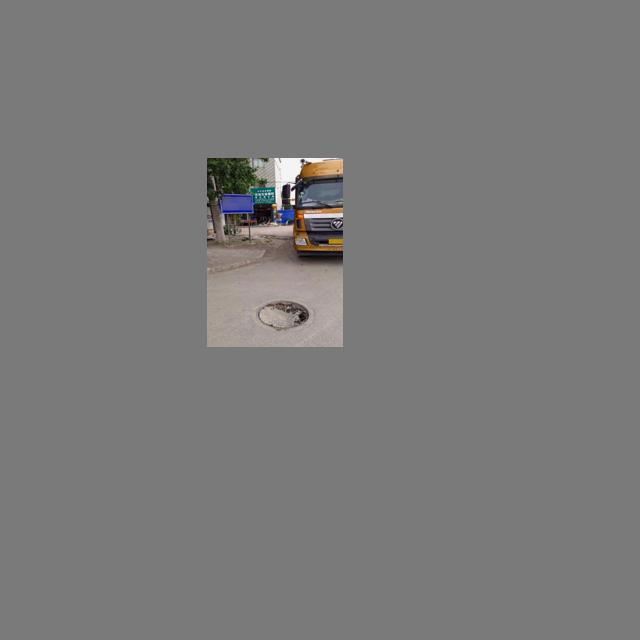broke: (251, 298, 313, 331)
